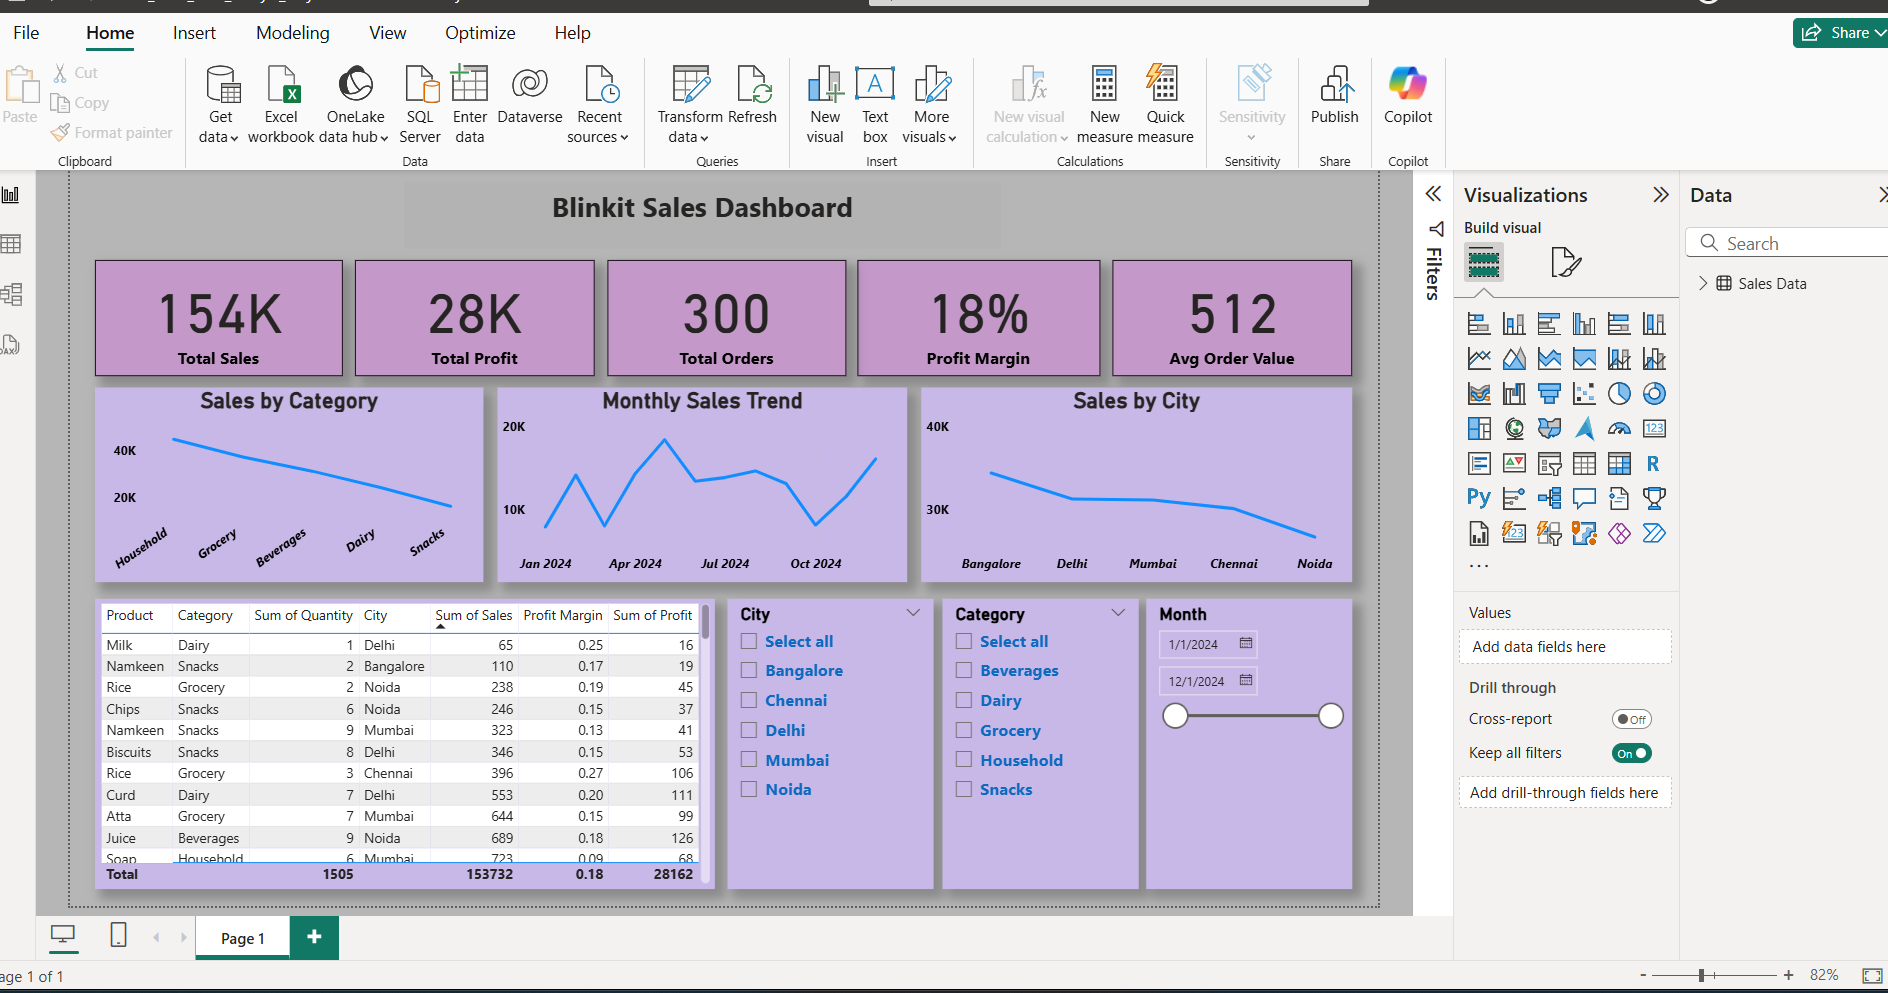

The dashboard page shown, as its layout file describes it:
{"tool":"powerbi","page":{"name":"Page 1","canvas":[1280,720],"ordinal":0},"visuals":[{"type":"card","fields":{"Values":["Sales Data.Total Sales"]},"box":[24.5,88,242.1,113.7],"z":0},{"type":"card","fields":{"Values":["Sales Data.Profit Margin"]},"box":[770.4,88,237.2,113.7],"z":1000},{"type":"card","fields":{"Values":["Sales Data.Avg Order Value"]},"box":[1019.8,88,234.8,113.7],"z":2000},{"type":"card","fields":{"Values":["Sales Data.Total Profit"]},"box":[278.8,88,234.8,113.7],"z":3000},{"type":"card","fields":{"Values":["Sales Data.Total Orders"]},"box":[525.8,88,233.6,113.7],"z":4000},{"type":"lineChart","title":"Sales by Category","fields":{"Category":["Sales Data.Category"],"Y":["Sum(Sales Data.Sales)"]},"box":[24.5,212.8,380.3,190.8],"z":5000},{"type":"lineChart","title":" Monthly Sales Trend","fields":{"Y":["Sum(Sales Data.Sales)"],"Category":["Sales Data.Month"]},"box":[418.2,212.8,401.1,190.8],"z":6000},{"type":"lineChart","title":"Sales by City","fields":{"Category":["Sales Data.City"],"Y":["Sum(Sales Data.Sales)"]},"box":[832.7,212.8,421.9,190.8],"z":7000},{"type":"tableEx","fields":{"Values":["Sales Data.Product","Sales Data.Category","Sum(Sales Data.Quantity)","Sales Data.City","Sum(Sales Data.Sales)","Sales Data.Profit Margin","Sum(Sales Data.Profit)"]},"box":[24.5,419.4,606.5,283.7],"z":8000},{"type":"slicer","fields":{"Values":["Sales Data.City"]},"box":[643.2,419.4,201.8,283.7],"z":9000},{"type":"slicer","fields":{"Values":["Sales Data.Category"]},"box":[853.5,419.4,192,283.7],"z":10000},{"type":"slicer","fields":{"Values":["Sales Data.Month"]},"box":[1052.9,419.4,201.8,283.7],"z":11000},{"type":"textbox","box":[326.5,12.2,584.5,64.8],"z":12000}]}

Visuals, with their boxes on the page's 1280x720 design canvas (x1, y1, x2, y2). These are canvas units, not pixel positions in the 1888x993 screenshot, which may show the page scaled, cropped or inside an application window:
card - Sales Data.Total Sales: locate(24, 88, 267, 202)
card - Sales Data.Profit Margin: locate(770, 88, 1008, 202)
card - Sales Data.Avg Order Value: locate(1020, 88, 1255, 202)
card - Sales Data.Total Profit: locate(279, 88, 514, 202)
card - Sales Data.Total Orders: locate(526, 88, 759, 202)
"Sales by Category" lineChart: locate(24, 213, 405, 404)
" Monthly Sales Trend" lineChart: locate(418, 213, 819, 404)
"Sales by City" lineChart: locate(833, 213, 1255, 404)
tableEx - Sales Data.Product x Sales Data.Category: locate(24, 419, 631, 703)
slicer - Sales Data.City: locate(643, 419, 845, 703)
slicer - Sales Data.Category: locate(854, 419, 1046, 703)
slicer - Sales Data.Month: locate(1053, 419, 1255, 703)
textbox: locate(326, 12, 911, 77)
